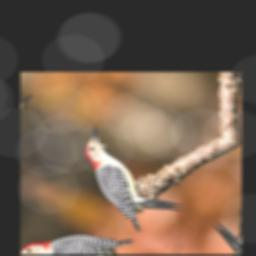Woodpecker: (53, 123, 206, 245)
